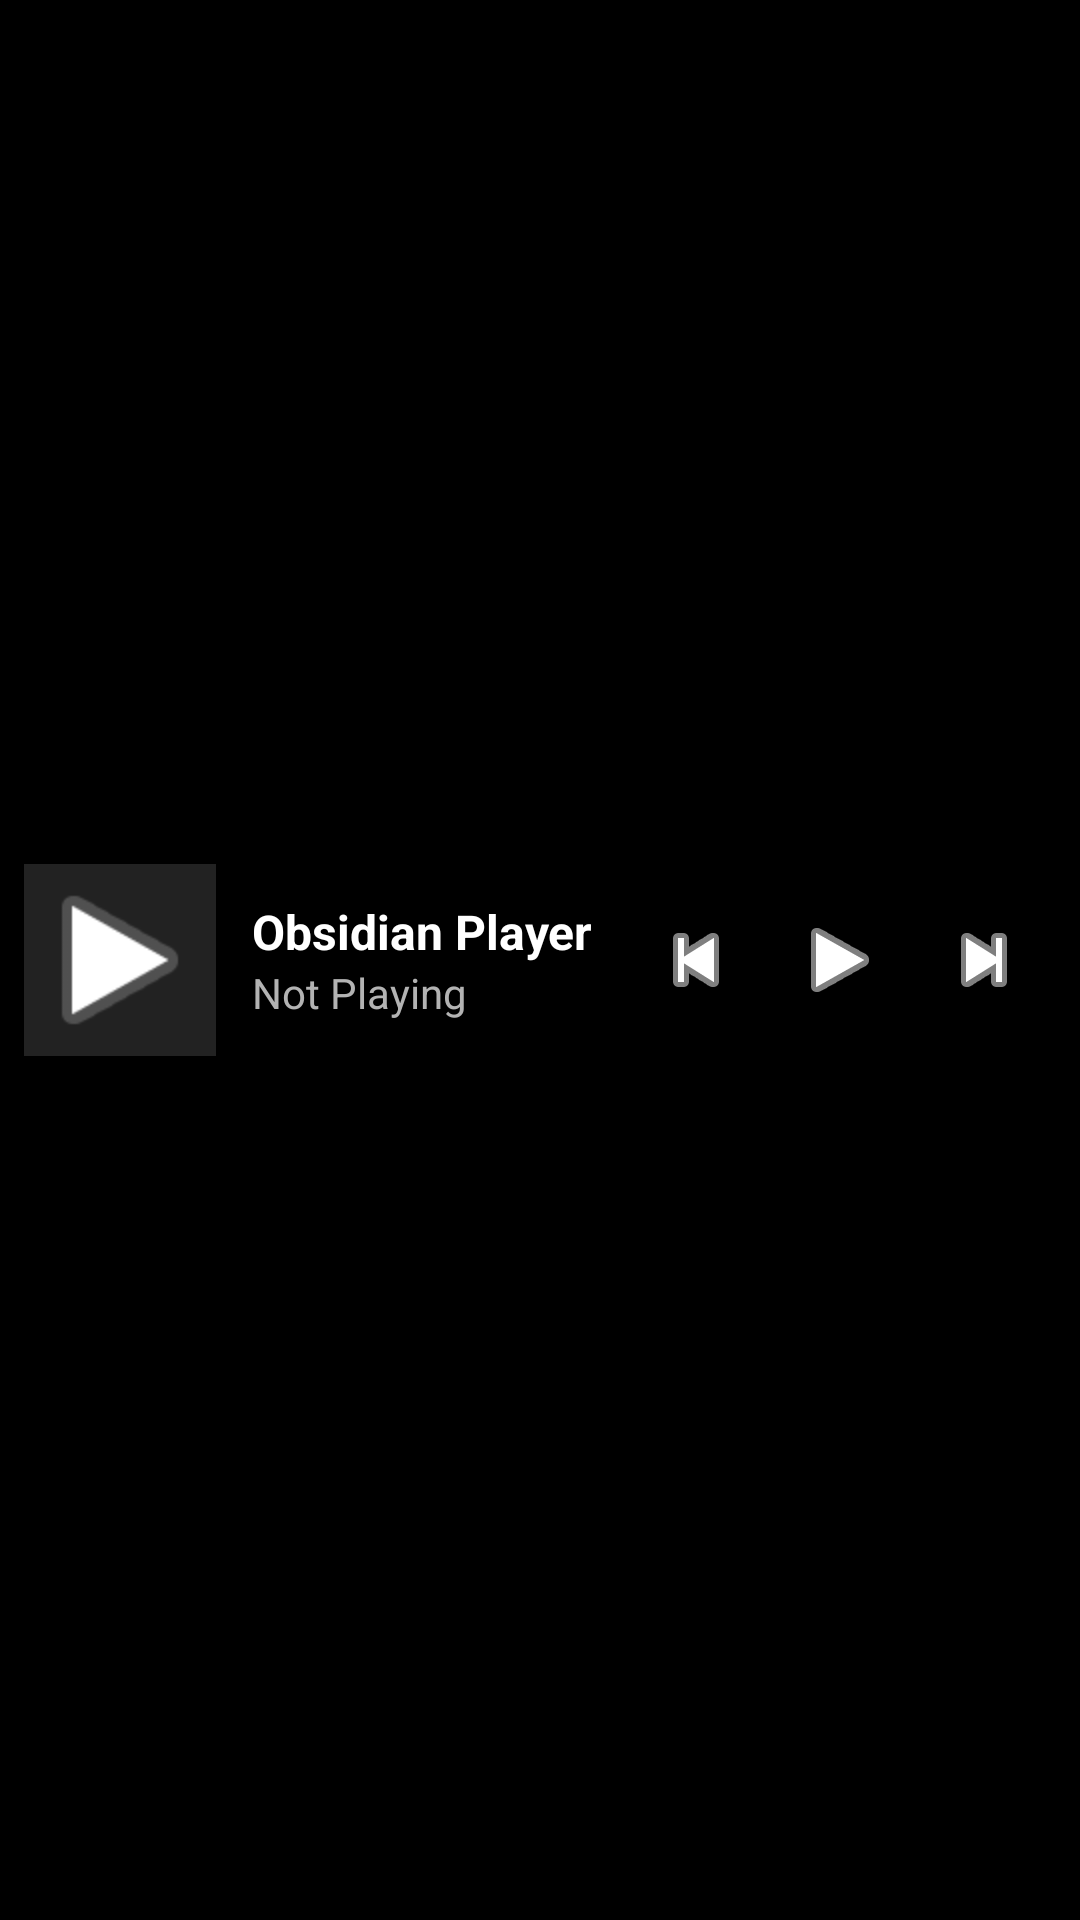

Icon bounding boxes for this 1080x1920 phone screenshot, format box(x1, y1, x2, y2):
next: box(961, 933, 1007, 987)
previous: box(673, 933, 719, 987)
